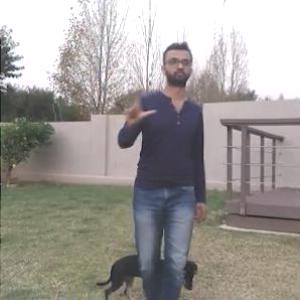land_hand: (119, 81, 158, 125)
